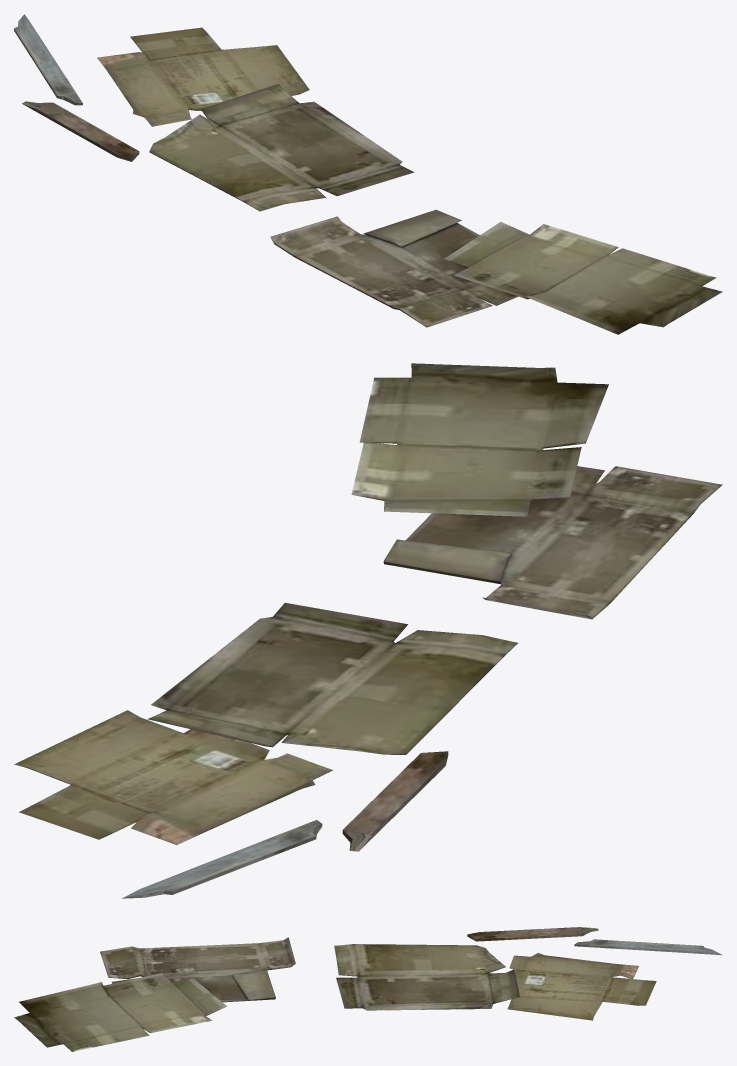
The model's file is garbage256_composite002b.glb.
3 renders of one model, top to bottom at view 1: azimuth 30°, elevation 25°; view 2: azimuth 150°, elevation 25°; view 3: azimuth 270°, elevation 25°, orthographic. The views are drawn at different scales.
Parts seen in each view (by area): view 1: 0_garbage002a_01; view 2: 0_garbage002a_01; view 3: 0_garbage002a_01.
Part boxes in pixels (x1,y1,x2,y2): 0_garbage002a_01: (14,14,722,334); 0_garbage002a_01: (14,363,722,898); 0_garbage002a_01: (14,927,722,1051).
Bounding box in the file's own units: 2.62 × 0.0874 × 6.32.
Materials: 1 (1 with a texture image).
